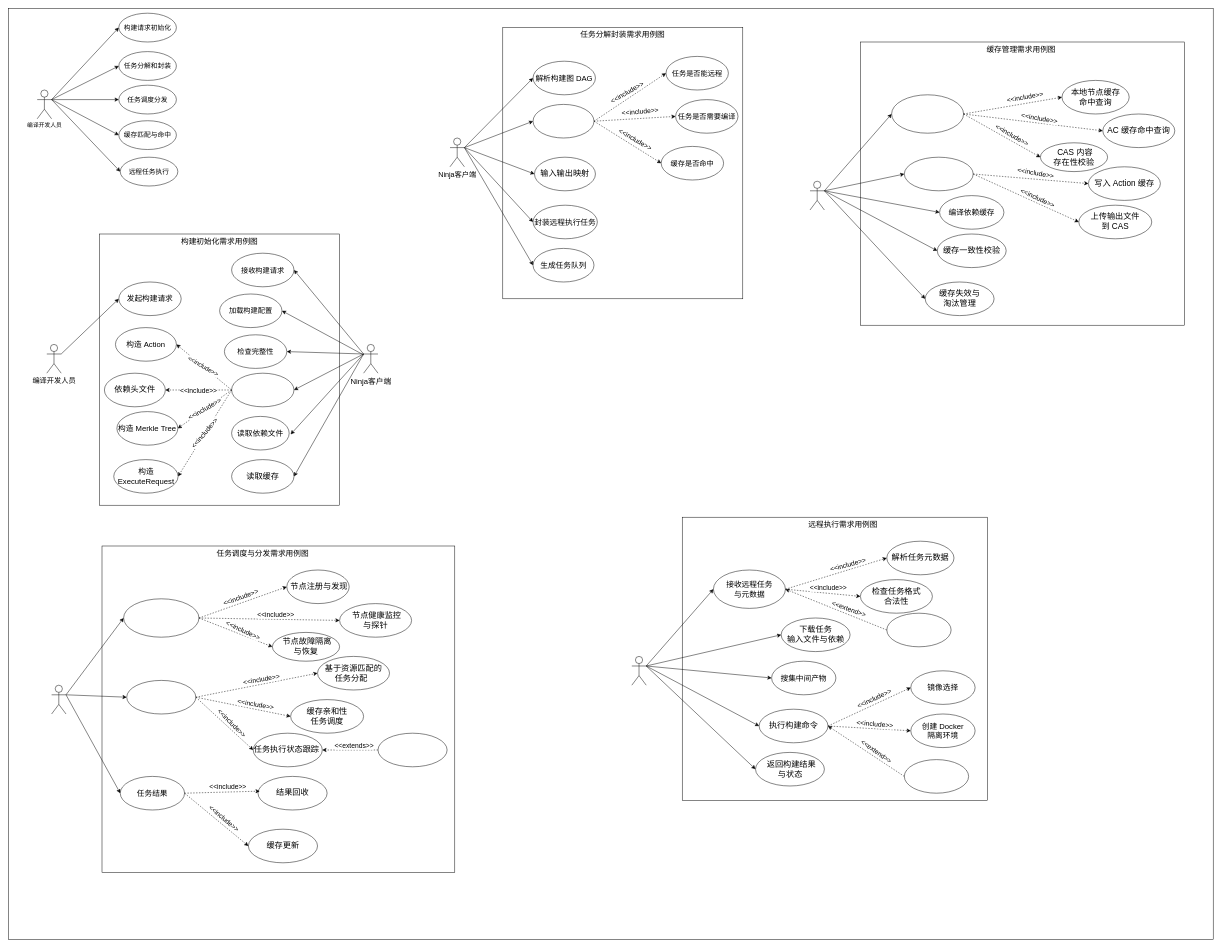
Image size: 1222x948. Some labels were removed from this diagram. Each missing label, with the centre of its shape:
任务故障重试与 节点避让: the point at 412,750
任务生成: the point at 262,390
处理任务执行异常: the point at 936,776
标识构建任务: the point at 563,121
清理隔离环境 与临时文件: the point at 918,630
缓存写入: the point at 938,174
缓存命中: the point at 927,113
缓存服务端: the point at 817,195
节点池管理: the point at 161,617
调度服务端: the point at 58,699
远程服务端: the point at 638,670
集群任务队列管理: the point at 161,697
